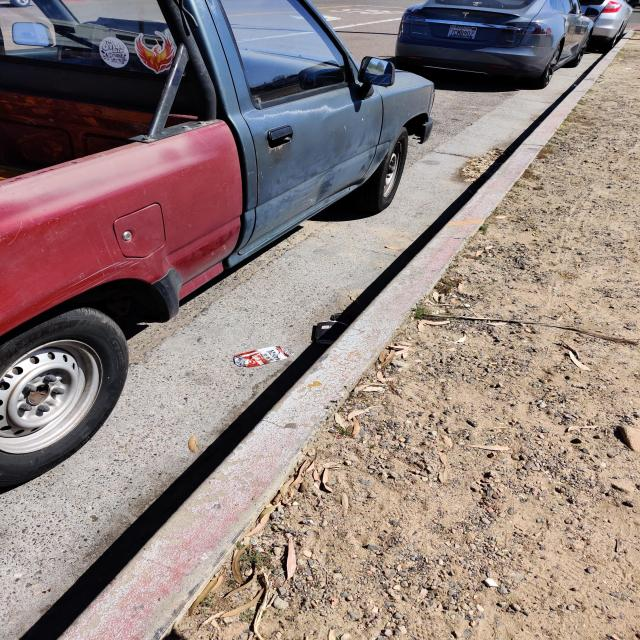litter: (233, 345, 295, 367), (314, 321, 349, 344), (331, 313, 349, 322)
